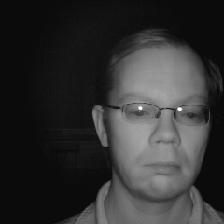sad: (90, 31, 215, 196)
